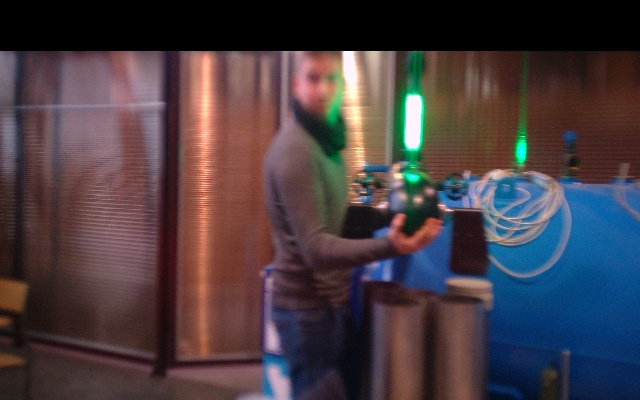green: (403, 94, 424, 153)
